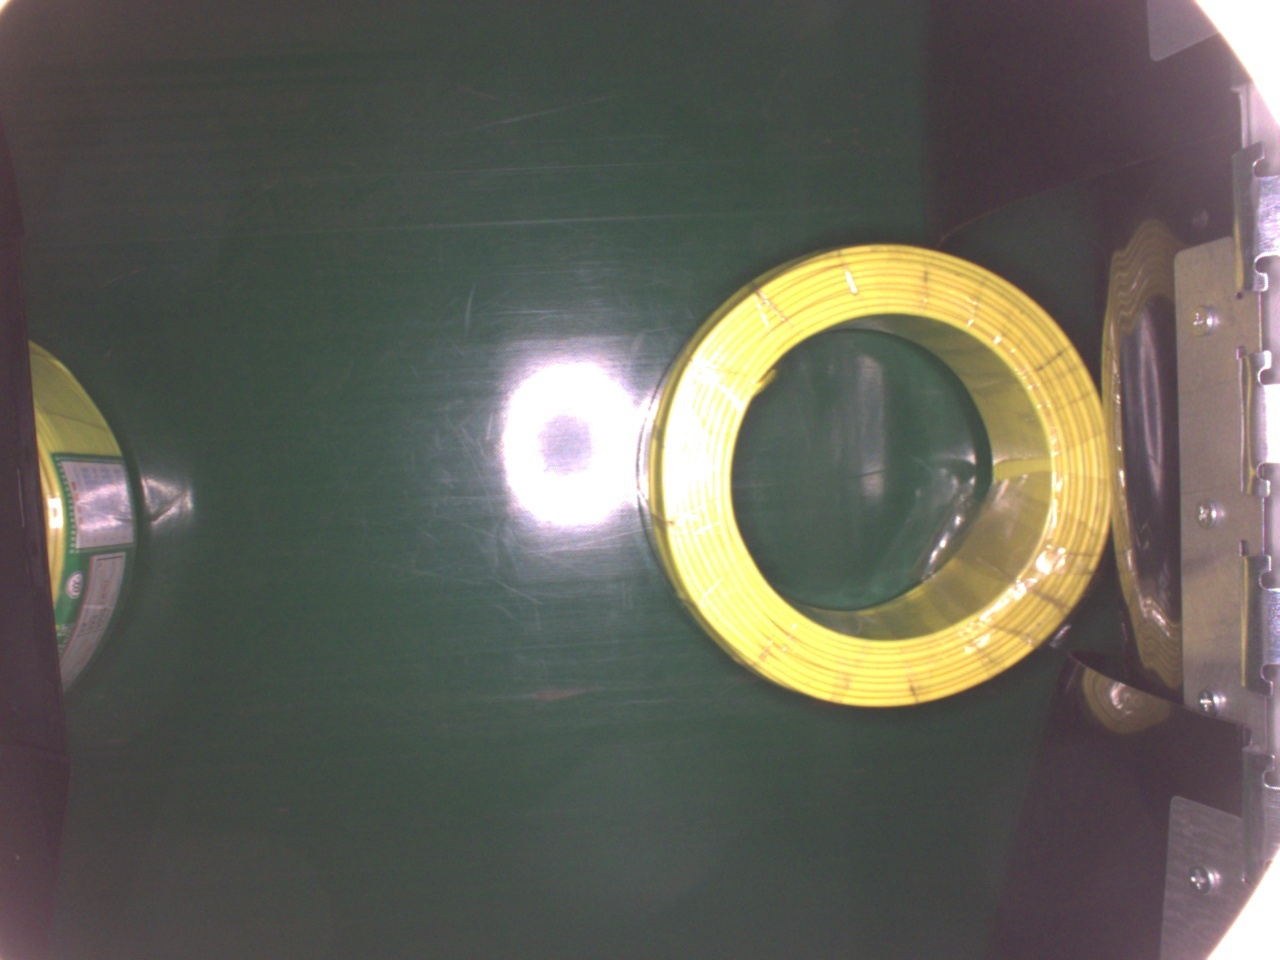yellow: (634, 240, 1111, 713)
